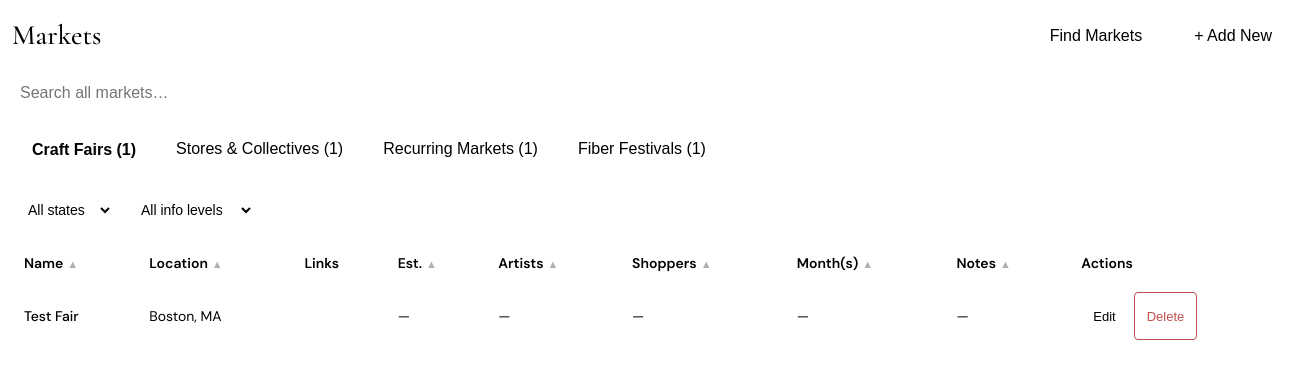
MarketsManager › tab switch shows Recurring Markets
Click the button "Recurring Markets (1)". click: click(461, 150)
box: [363,126,558,174]
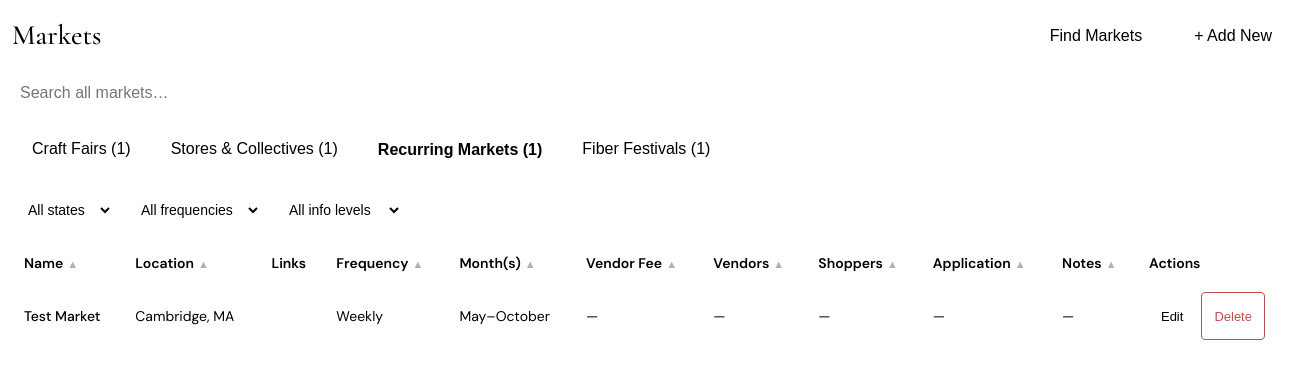
Check: the text "Test Market" is shown, box [12,282,123,350]
Check: the text "Test Fair" is gone
